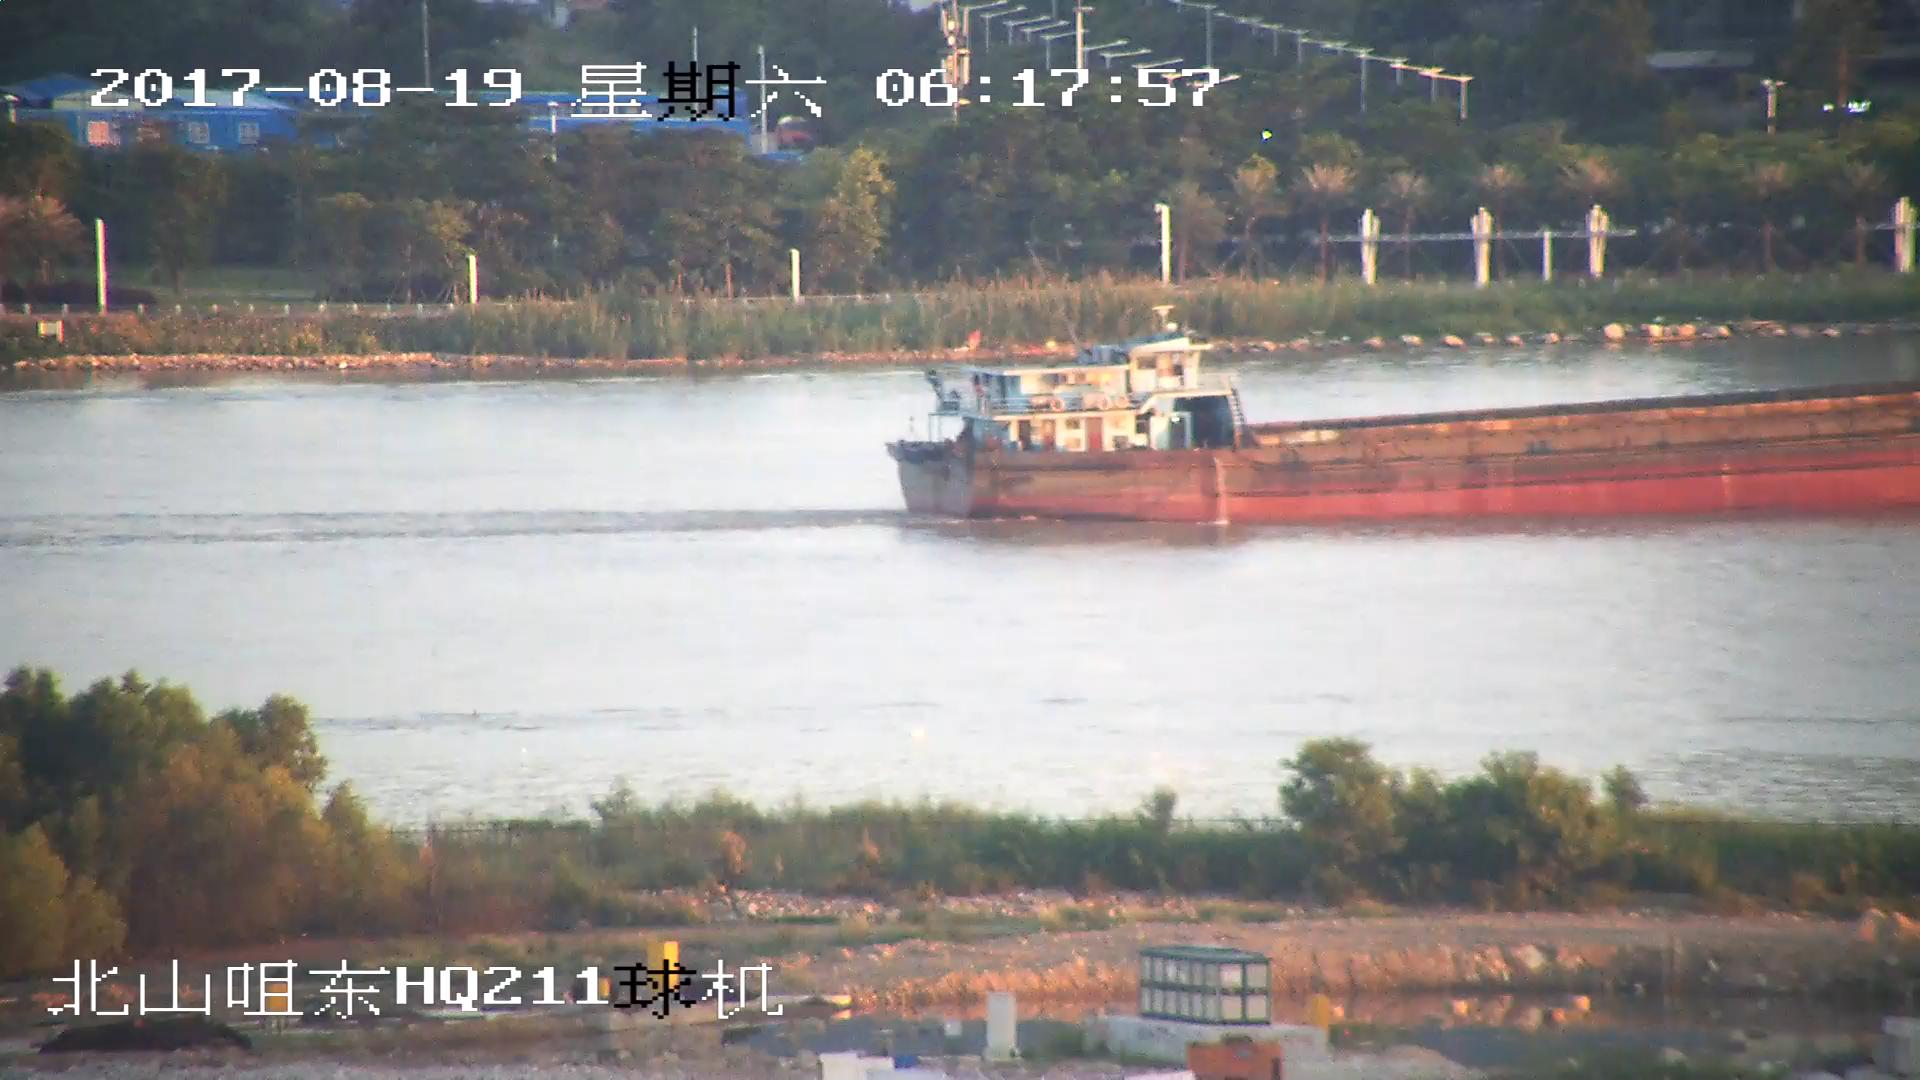bulk cargo carrier: (885, 330, 1920, 523)
